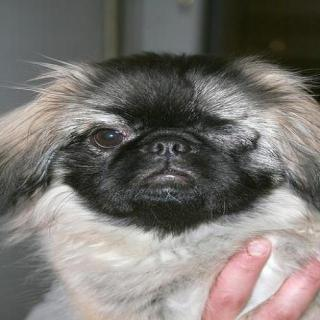dog: (26, 52, 306, 216)
nose: (149, 126, 190, 163)
